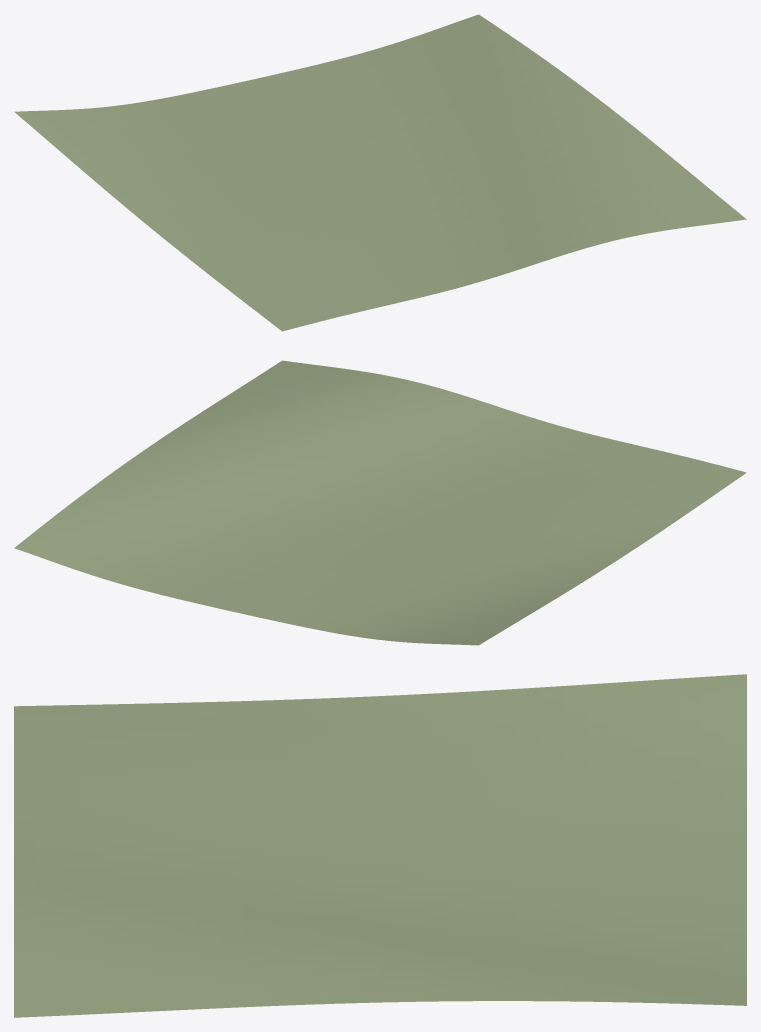
File: desert-10-7.glb
The picture shows the model from 3 angles, top to bottom: view 1: azimuth 30°, elevation 25°; view 2: azimuth 150°, elevation 25°; view 3: azimuth 270°, elevation 25°; orthographic projection. The views are drawn at different scales.
Visible parts, largest first — view 1: desert-10-7; view 2: desert-10-7; view 3: desert-10-7.
Part boxes in pixels (x1,y1,x2,y2): desert-10-7: (14, 14, 746, 331); desert-10-7: (14, 360, 746, 645); desert-10-7: (14, 674, 746, 1017).
Bounding box in the file's own units: 512 × 28.35 × 512.
